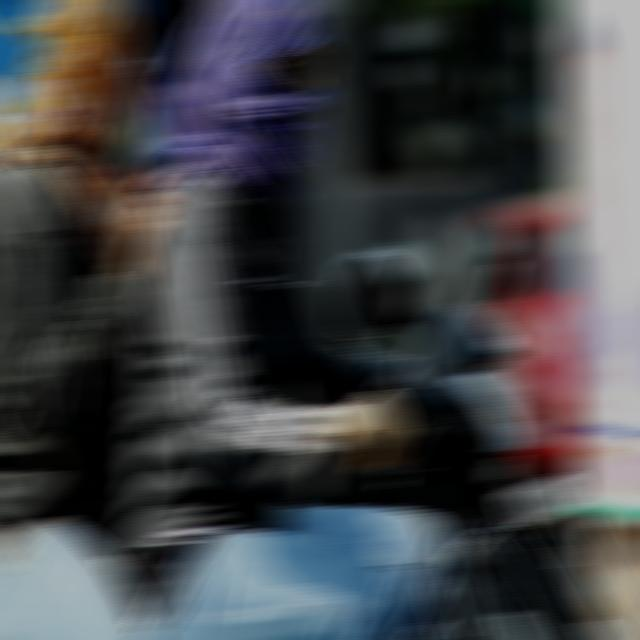Without Helmet: (191, 0, 335, 222)
